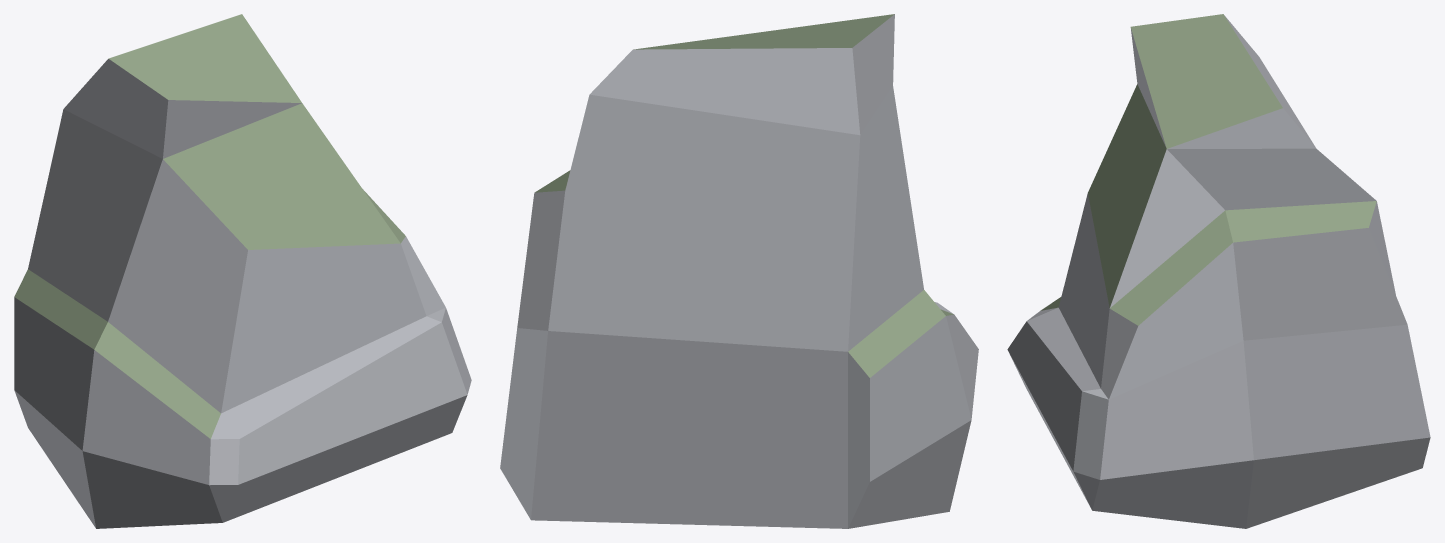
Rendered from model_rock-moss.glb.
3 views of the same model, side by side, from view 1: azimuth 30°, elevation 25°; view 2: azimuth 150°, elevation 25°; view 3: azimuth 270°, elevation 25° (orthographic). The views are drawn at different scales.
Parts seen in each view (by area): view 1: Rock_Moss_2; view 2: Rock_Moss_2; view 3: Rock_Moss_2.
Part boxes in pixels (x1,y1,x2,y2): Rock_Moss_2: (14, 14, 471, 528); Rock_Moss_2: (500, 14, 978, 528); Rock_Moss_2: (1007, 14, 1430, 528).
Bounding box in the file's own units: 0.6125 × 0.6918 × 0.6504.
